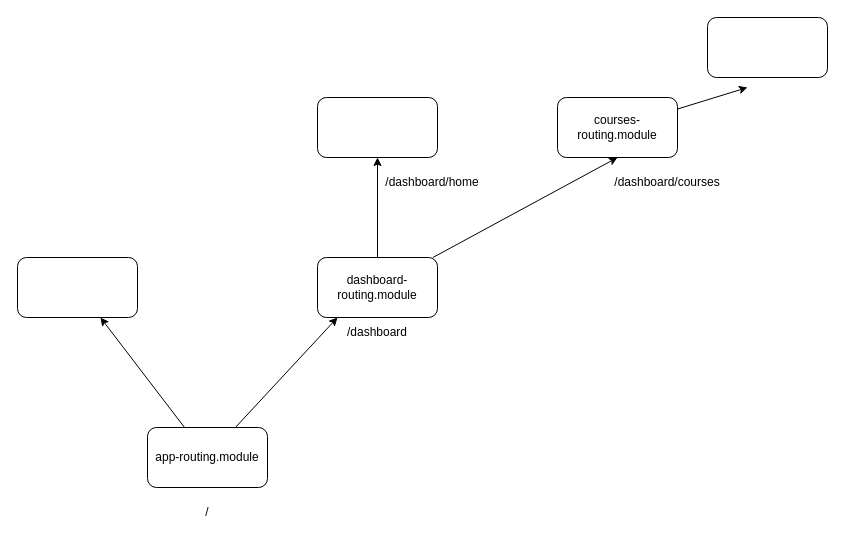
Some shapes in this 845 by 545 pixel diagram are drawn without their labels. Each missing label, with the centre of its shape:
"course-detail" goes at point 767,47.
"home-routing.module" goes at point 377,127.
